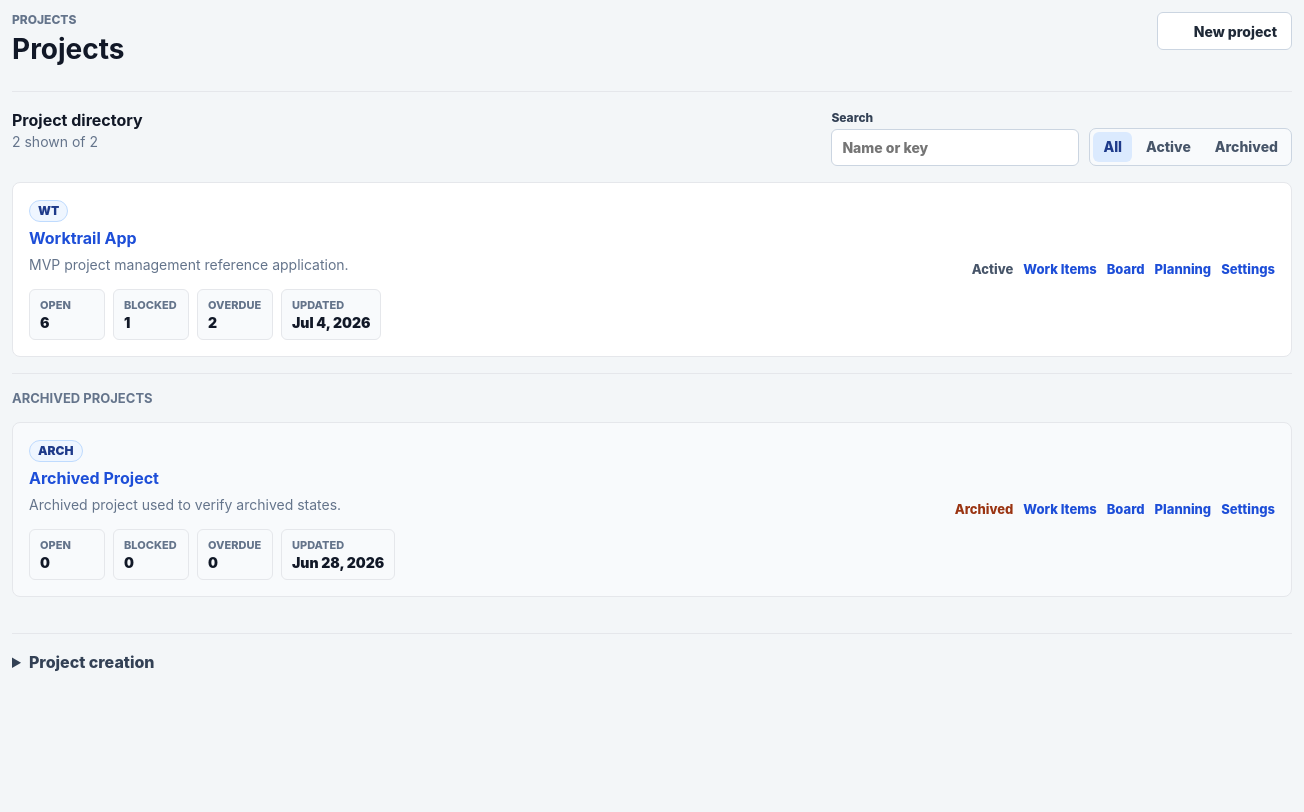
ProjectListPageComponent › searches projects by name or key
Type "arch" into the search field labelled "Search". click: (955, 147)
box: [831,129,1079,166]
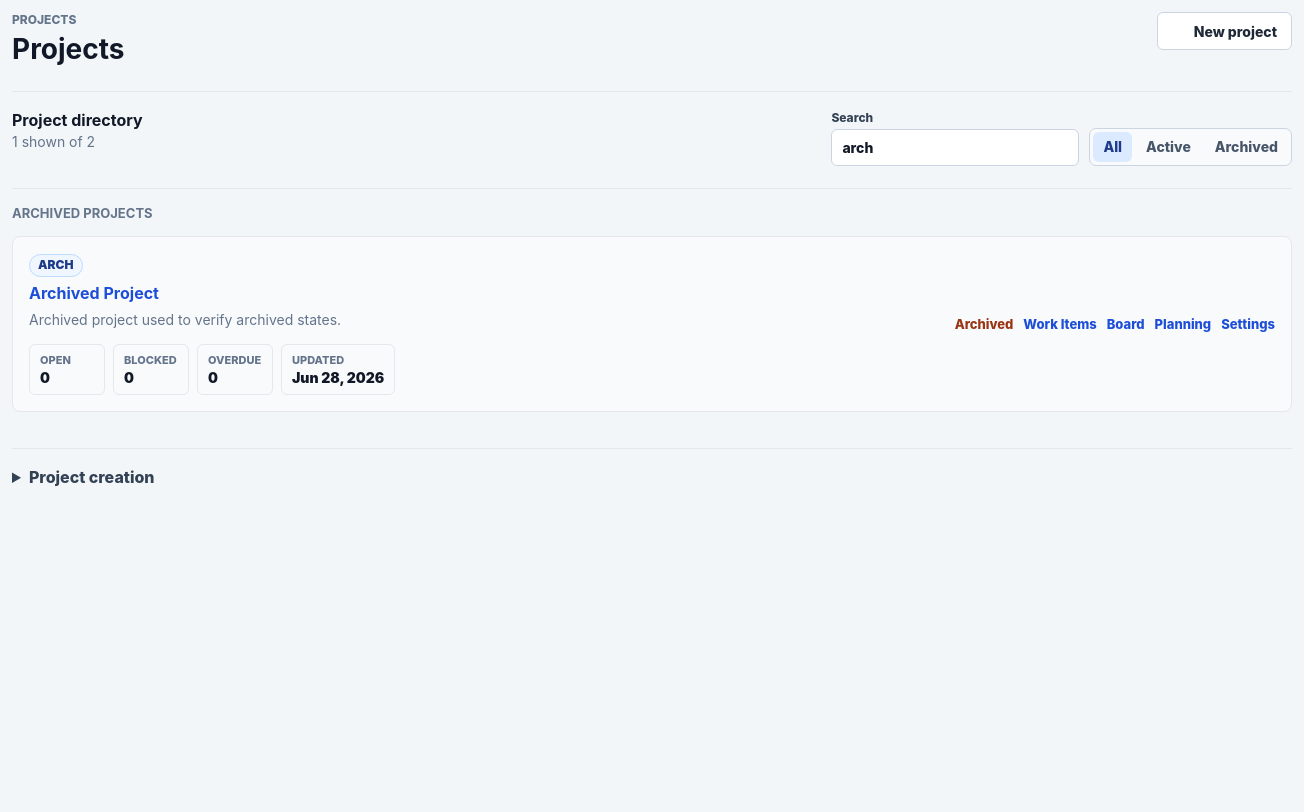
Expected: the text "Archived project" is shown, [12,205,152,221]
Expected: the text "Worktrail App" is gone
Replace the text in the search field labelled "Search" with "wt". click: (955, 147)
box: [831,129,1079,166]
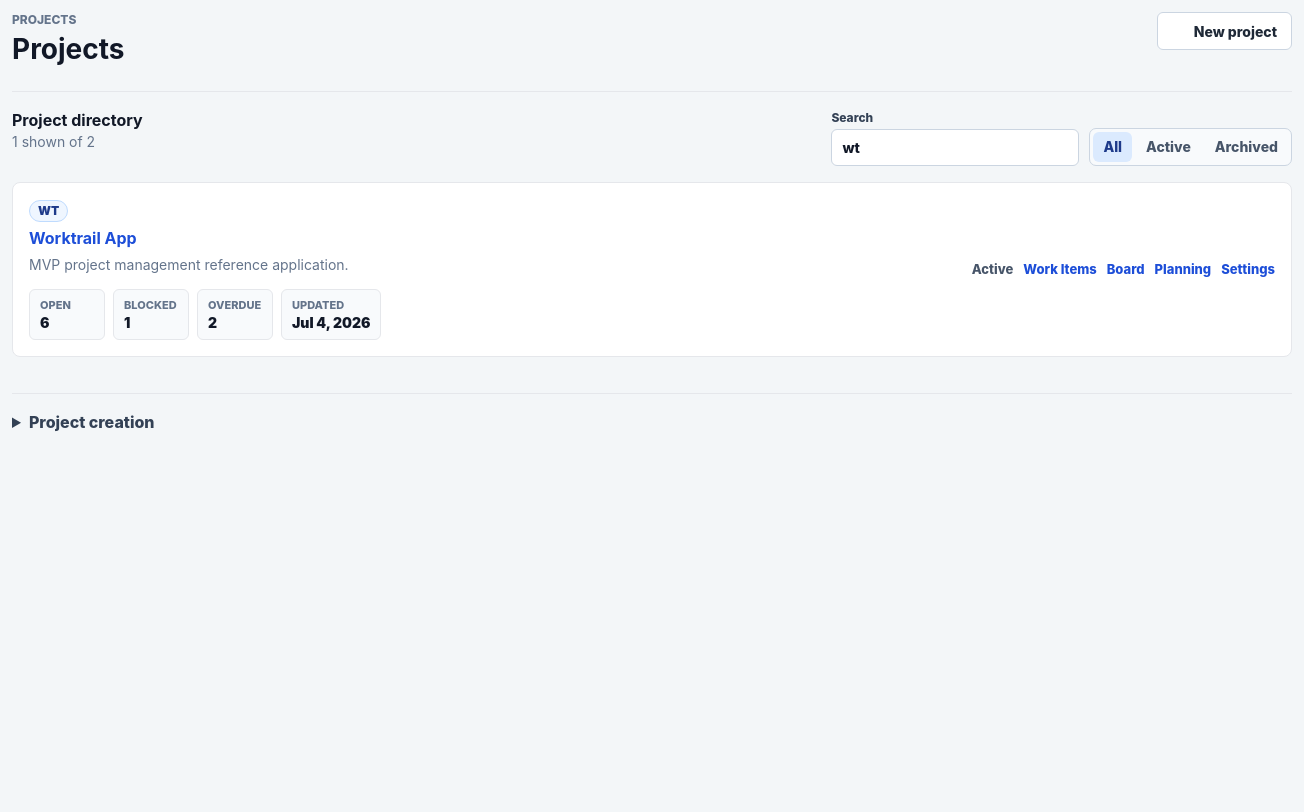
Expected: the text "Worktrail App" is shown, [29,228,137,248]
Expected: the text "Archived project" is gone
